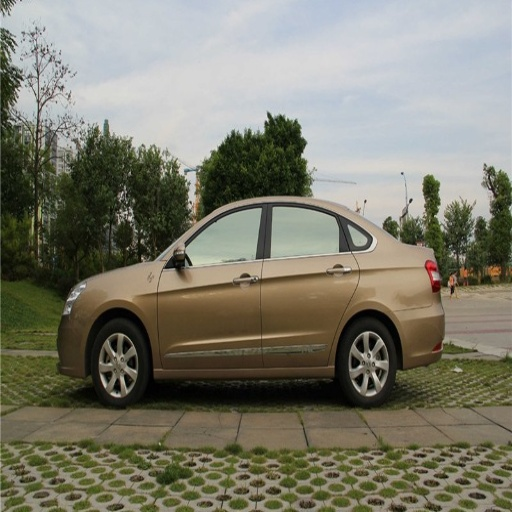back_left_door: (261, 202, 358, 364)
front_left_door: (157, 203, 267, 366)
